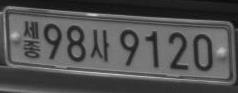0: (192, 32, 213, 71)
1: (143, 30, 162, 68)
2: (168, 31, 189, 70)
8: (66, 24, 86, 62)
9: (42, 22, 62, 59), (119, 28, 139, 65)
사: (91, 28, 110, 61)
세종_V: (22, 20, 41, 58)
